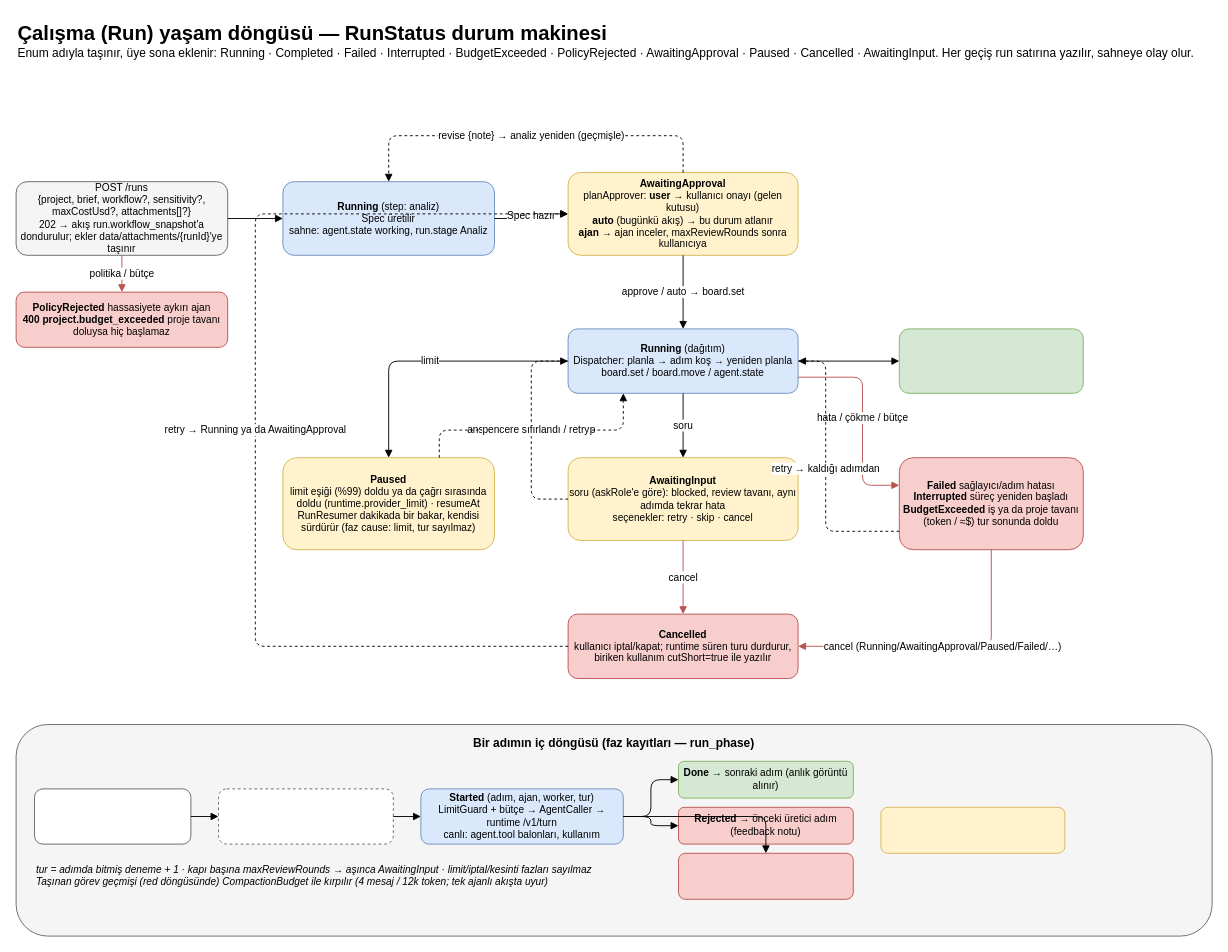
Some shapes in this 1228 by 952 pixel diagram are drawn without their labels. Here are the shapes that lost their labels. From the top down, the centre of each, then its label:
(990,360): Completed tüm görevler son adımdan geçti
(112,816): görev queued (dependsOn done, boş kopya yok)
(305,816): handoff (handoffRole varsa, yalnız implement) devir notu → run_message
(972,829): Skipped (ajan: user) → sonraki adım; yalnız kullanıcı "skip" deyince
(765,875): Failed → aynı adım (cause: agent | limit | cancelled | interrupted)
